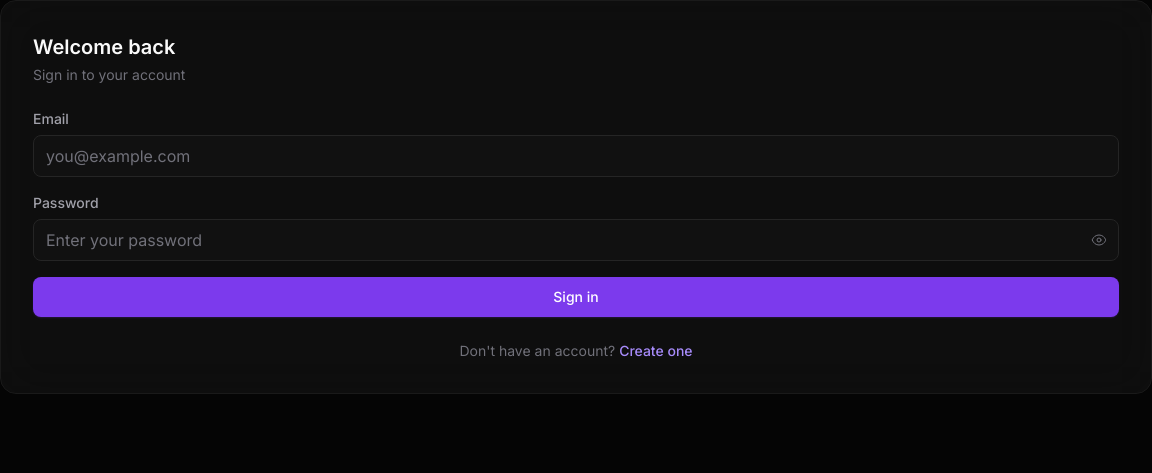
Test case: LoginPage › shows generic error message on unknown failure
Type "test@example.com" into the field with placeholder "you@example.com" at x=576, y=156, box [33,135,1119,177]
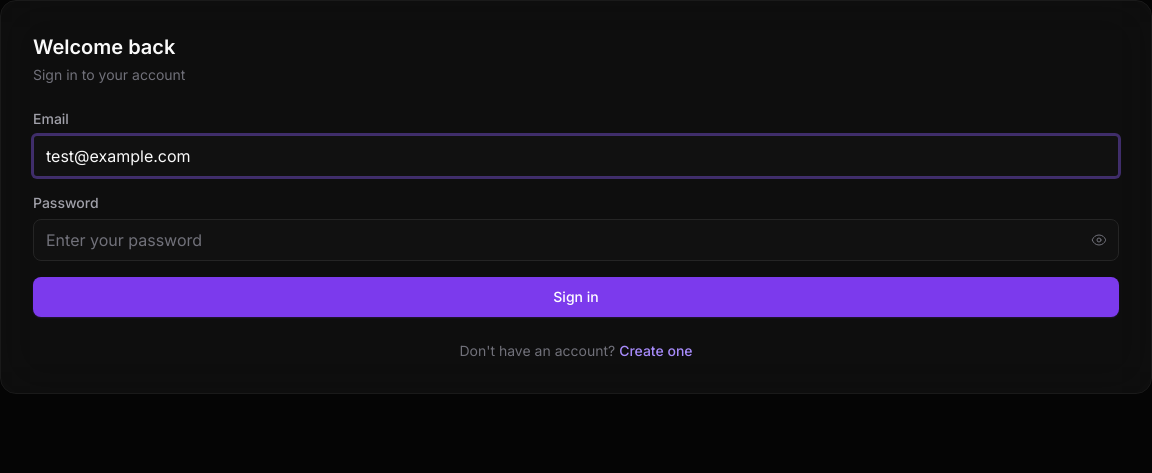
Type "password123" into the password field with placeholder "Enter your password" at x=576, y=240, box [33,219,1119,261]
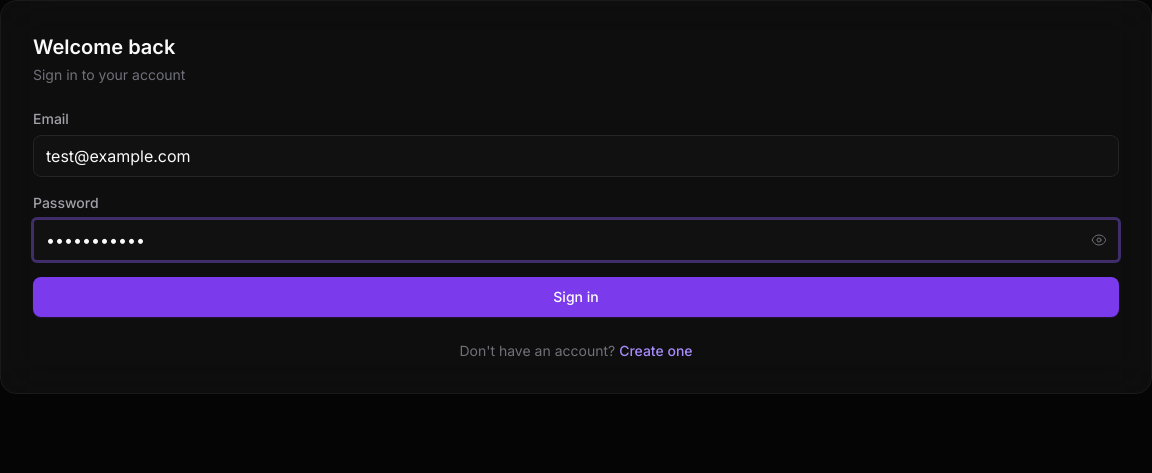
Click the button "Sign in" at x=576, y=297, box [33,277,1119,317]
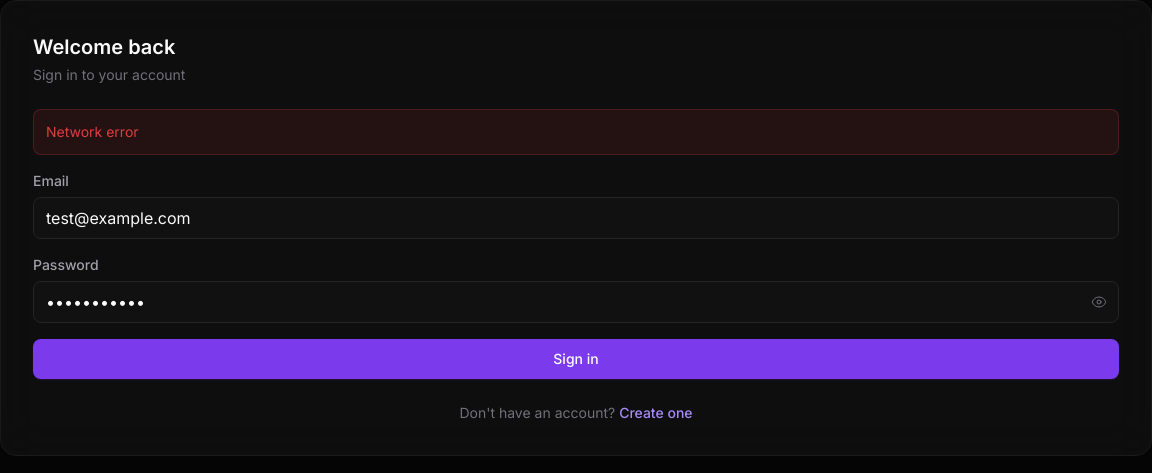
Check: the text "Network error" is shown, box [33,109,1119,155]
